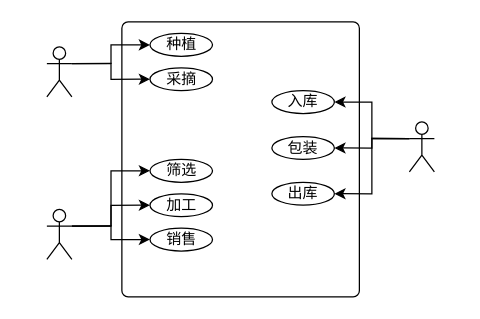
This 480x319 diagram has some shape labels left out. Here are the shapes that lost their labels. From the top down, the centre of each, then its label:
the point at 59,71: 茶农
the point at 421,146: 仓库管理员
the point at 59,233: 生产管理员
